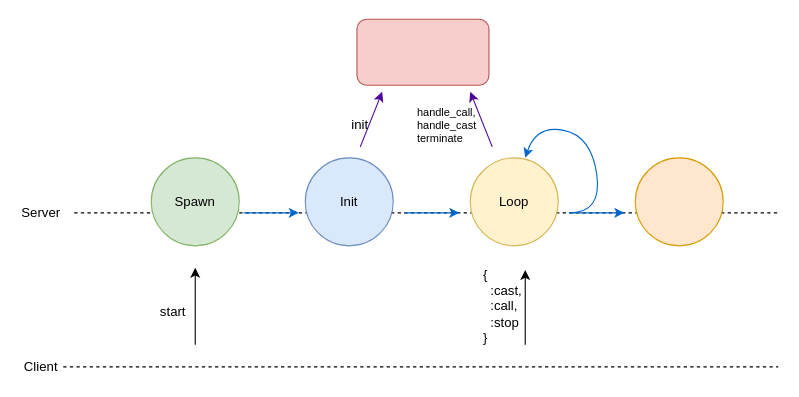
The diagram is 799 pixels wide and 397 high, and some of its shapes have lost their labels. The box of each missing label's shape, as (x1, y1, x2, y2) in pixels:
callback module: (356, 18, 489, 85)
Exit: (634, 157, 723, 246)
